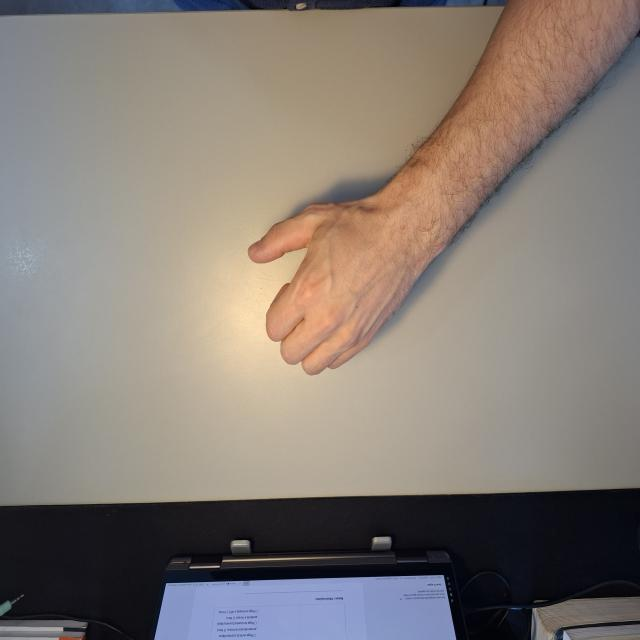glove_off: (246, 196, 416, 378)
